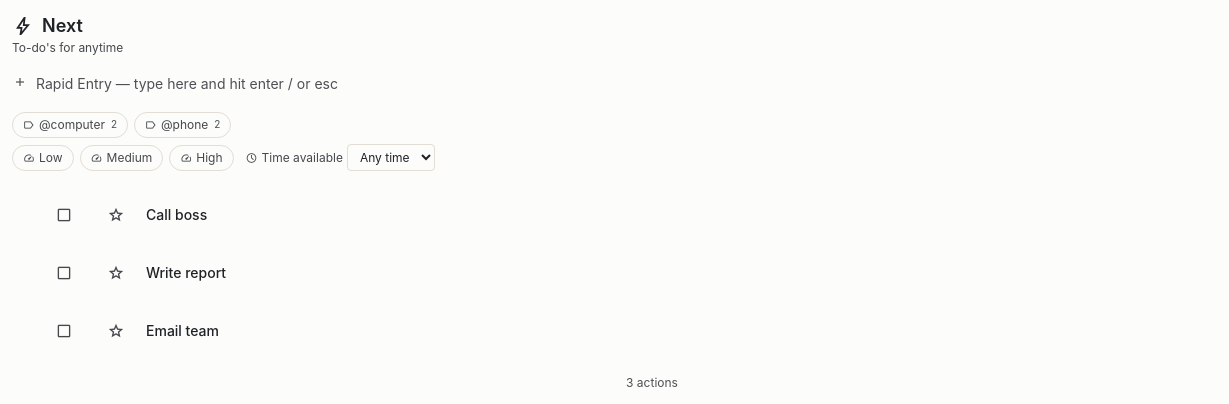
Test: ActionList › clicking a context chip filters displayed things
expect the button "Call boss" is shown: met, box [146,205,1212,225]
expect the button "Write report" is shown: met, box [146,263,1212,283]
Click the checkbox labelled "@phone 2": {"x": 183, "y": 125} [134,112,231,138]
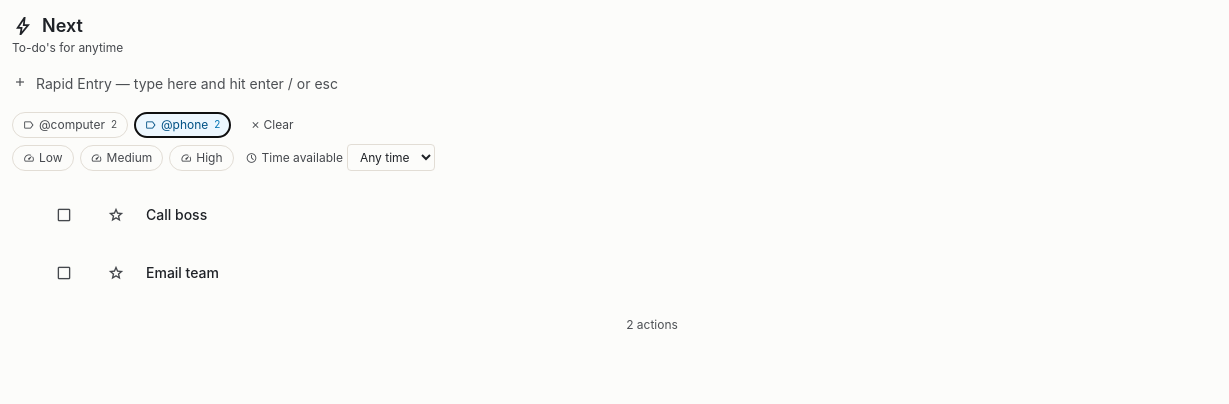
expect the button "Call boss" is shown: met, box [146,205,1212,225]
expect the button "Write report" is gone: met
